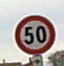limite 50: (12, 12, 56, 54)
